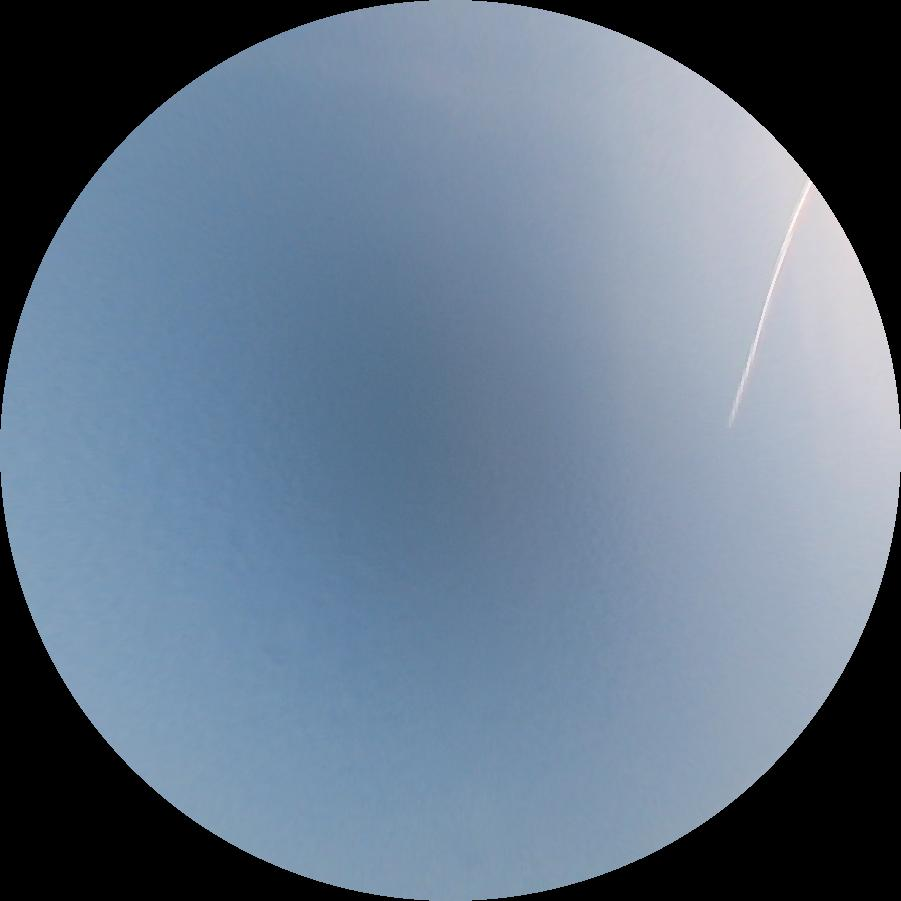contrail young: (729, 179, 813, 429)
